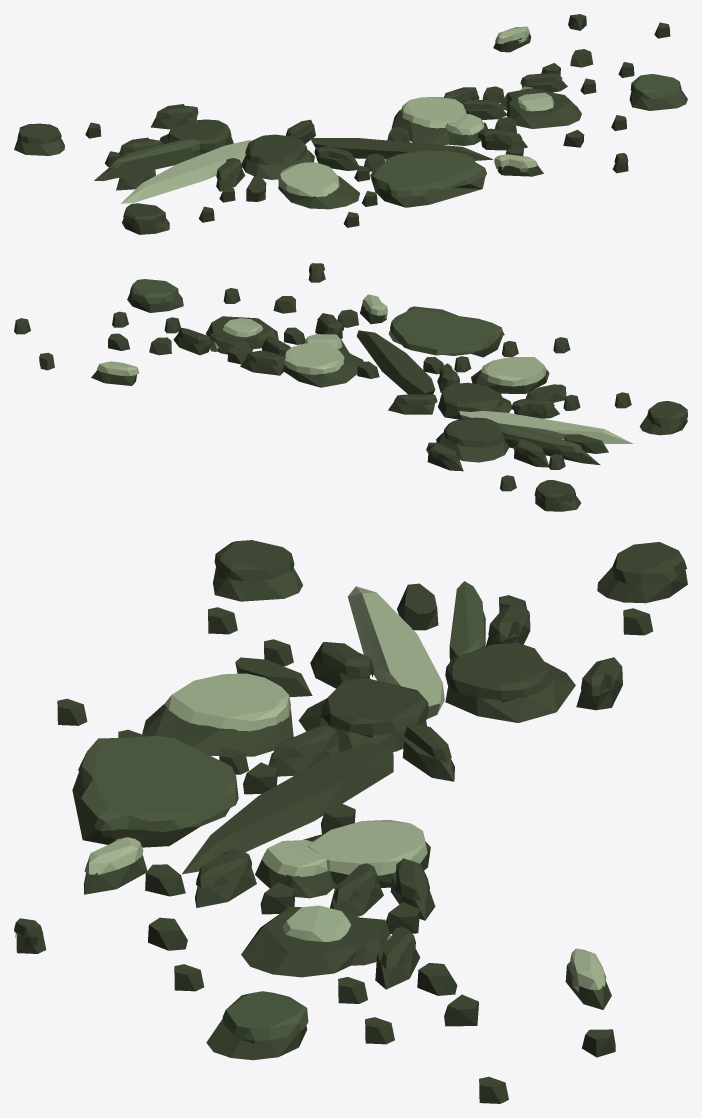
File: EA_Swamp_Stones_Moss_04d.glb
The picture shows the model from 3 angles, top to bottom: view 1: azimuth 30°, elevation 25°; view 2: azimuth 150°, elevation 25°; view 3: azimuth 270°, elevation 25°; orthographic projection. The views are drawn at different scales.
Visible parts, largest first — view 1: EA_Swamp_Stones_Moss_04d; view 2: EA_Swamp_Stones_Moss_04d; view 3: EA_Swamp_Stones_Moss_04d.
Boxes of the visible parts, x1,y1,x2,y2 form: EA_Swamp_Stones_Moss_04d: (14,14,687,234); EA_Swamp_Stones_Moss_04d: (14,263,687,511); EA_Swamp_Stones_Moss_04d: (14,540,687,1103).
Bounding box in the file's own units: 8.69 × 0.2582 × 4.58.
Materials: 1 (1 with a texture image).
